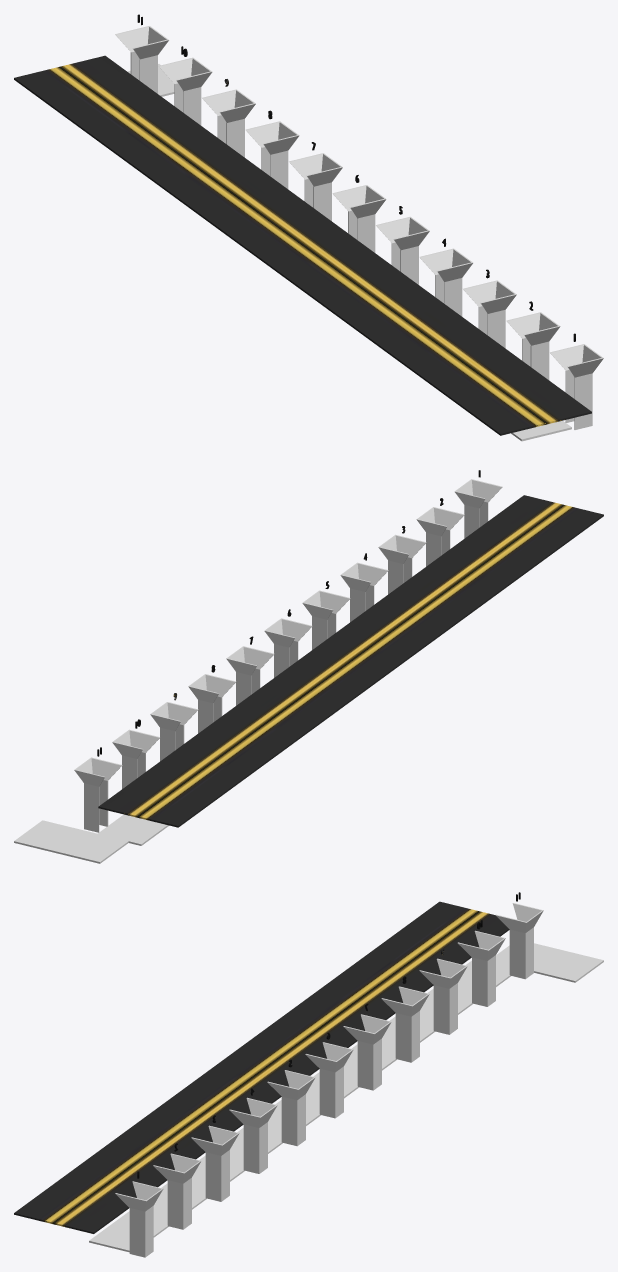
The model's file is nakdongkang.glb.
3 renders of one model, top to bottom at view 1: azimuth 30°, elevation 25°; view 2: azimuth 150°, elevation 25°; view 3: azimuth 330°, elevation 25°, orthographic. The views are drawn at different scales.
Parts seen in each view (by area): view 1: 큐브, 1번보, 2번보, 4번보, 8번보, 10번보, 6번보, 5번보, 3번보, 9번보, 7번보, 11번보 (+1 smaller); view 2: 큐브, 바닥공간, 11번보, 1번보, 3번보, 4번보, 7번보, 2번보, 5번보, 6번보, 8번보, 9번보 (+1 smaller); view 3: 큐브, 바닥공간, 4번보, 11번보, 3번보, 2번보, 5번보, 6번보, 7번보, 9번보, 1번보, 8번보 (+1 smaller).
Boxes of the visible parts, x1,y1,x2,y2 form: 큐브: (14,55,591,435); 1번보: (550,344,603,429); 2번보: (506,312,560,379); 4번보: (419,248,473,316); 8번보: (245,121,299,188); 10번보: (158,57,212,125); 6번보: (332,185,386,252); 5번보: (376,216,429,284); 3번보: (463,280,516,348); 9번보: (202,89,255,157); 7번보: (289,153,342,220); 11번보: (115,26,168,93); 큐브: (98,495,603,827); 바닥공간: (14,814,168,863); 11번보: (74,757,122,832); 1번보: (454,479,502,538); 3번보: (378,534,426,594); 4번보: (340,562,388,621); 7번보: (226,646,274,705); 2번보: (416,507,464,566); 5번보: (302,590,350,649); 6번보: (264,618,312,677); 8번보: (188,674,236,733); 9번보: (150,702,198,761); 큐브: (14,901,509,1233); 바닥공간: (89,943,603,1252); 4번보: (229,1097,277,1173); 11번보: (495,903,543,979); 3번보: (191,1125,239,1201); 2번보: (153,1153,201,1229); 5번보: (267,1070,315,1146); 6번보: (305,1042,353,1118); 7번보: (343,1014,391,1090); 9번보: (419,958,467,1034); 1번보: (115,1181,163,1257); 8번보: (381,986,429,1062).
Size of the model in its own units: 133 by 70.85 by 701.
12 materials, 2 textured.
